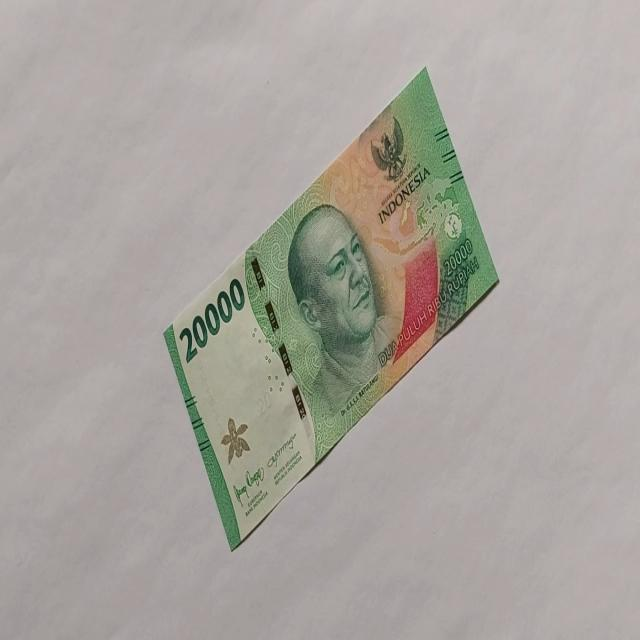dua puluh ribu rupiah: (162, 64, 500, 550), (285, 202, 395, 417), (177, 276, 245, 364)
